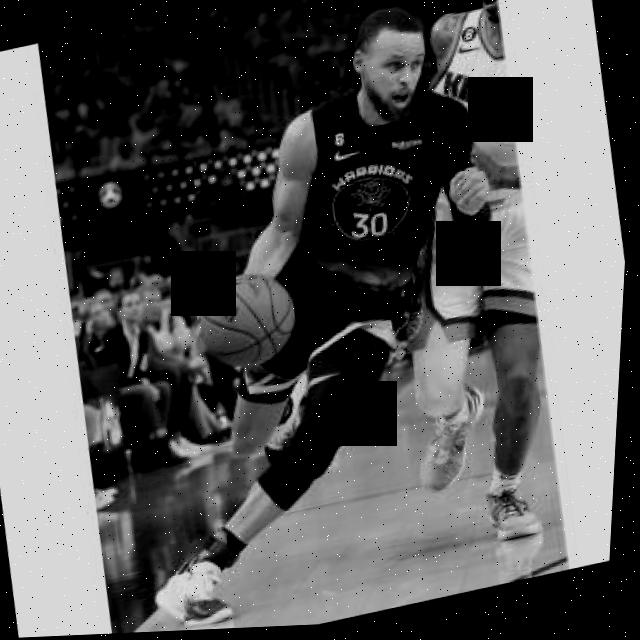shoe: (411, 382, 502, 498), (152, 553, 242, 634), (487, 475, 552, 549)
